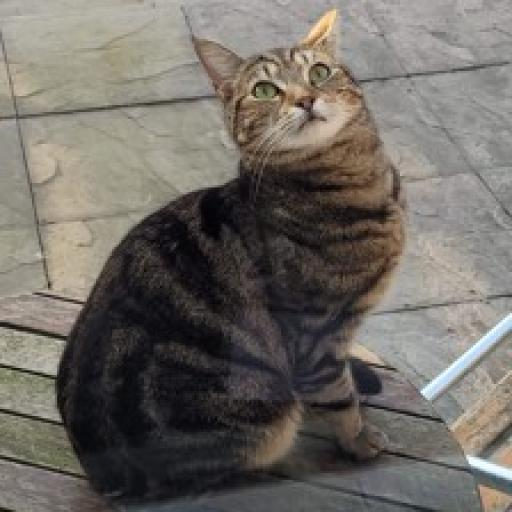cat: (53, 6, 415, 502)
